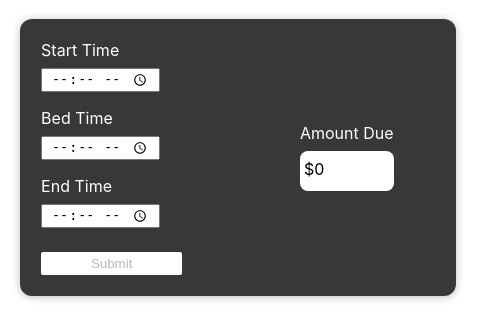
Test: submit button is enabled when all form fields are valid
The image size is (477, 318).
Type "17:00" into the time field with test id "start-time" at x=101, y=80, box [41,68,160,92]
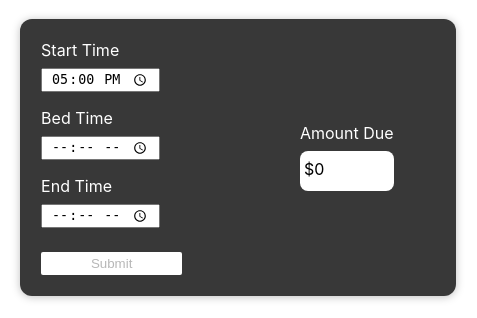
Type "18:00" into the time field with test id "bed-time" at x=101, y=148, box [41,136,160,160]
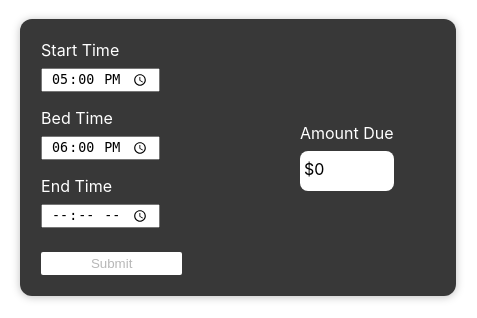
Type "20:00" into the time field with test id "end-time" at x=101, y=216, box [41,204,160,228]
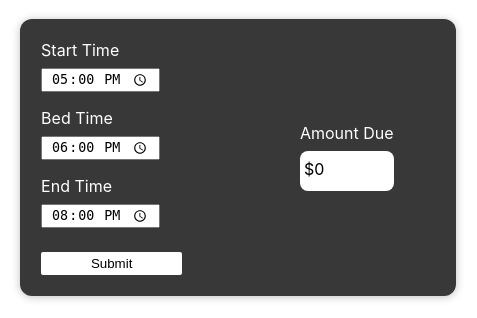
Now the button with test id "submit-btn" is enabled, box [41,252,182,275]
